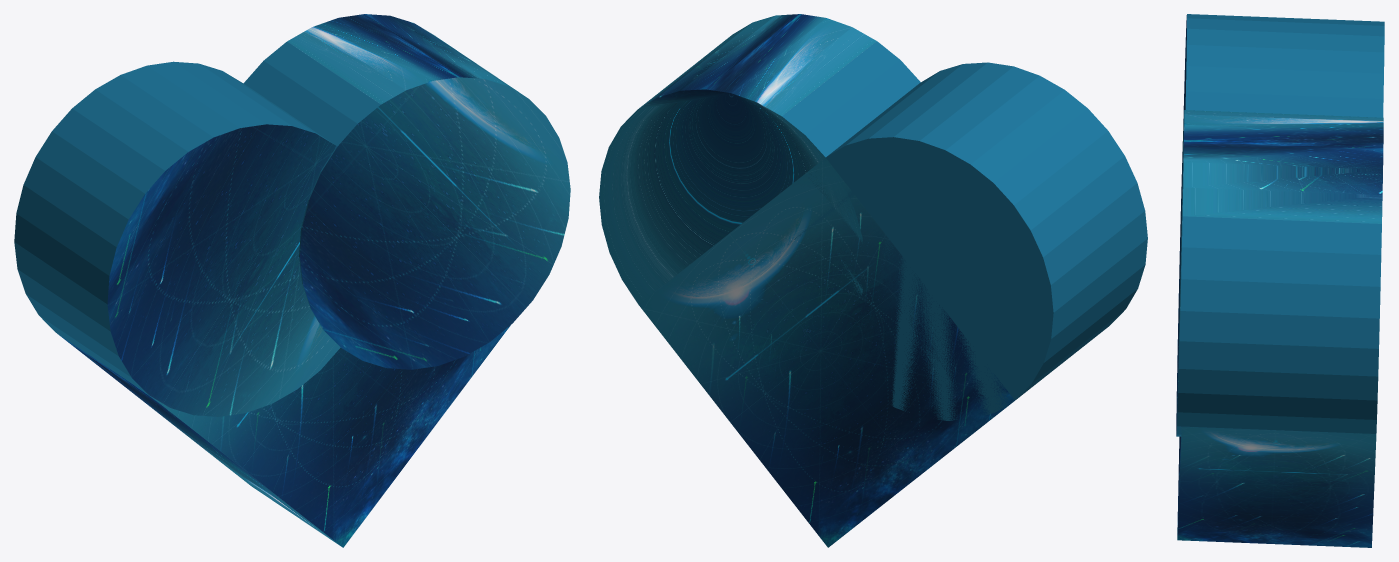
The model's file is Heart.obj.
3 renders of one model, left to right at view 1: azimuth 30°, elevation 25°; view 2: azimuth 150°, elevation 25°; view 3: azimuth 270°, elevation 25°, orthographic. The views are drawn at different scales.
Parts seen in each view (by area): view 1: Cube; view 2: Cube; view 3: Cube.
Boxes of the visible parts, <box> form: Cube: <box>14,14,570,547</box>; Cube: <box>599,14,1147,547</box>; Cube: <box>1176,14,1384,547</box>.
Bounding box in the file's own units: 3.42 × 3.17 × 1.28.
Materials: 1 (1 with a texture image).
